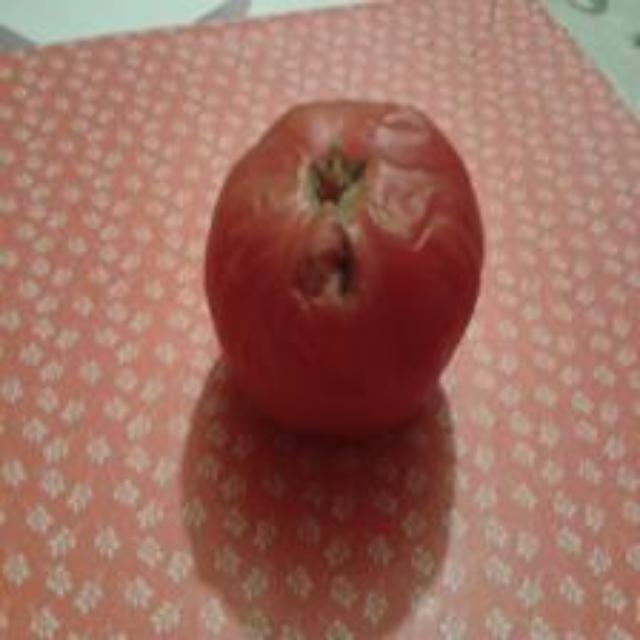defect: (202, 77, 486, 453)
